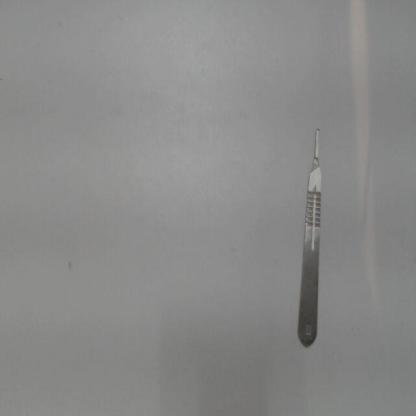No.3 BP Handle: (296, 121, 330, 354)
